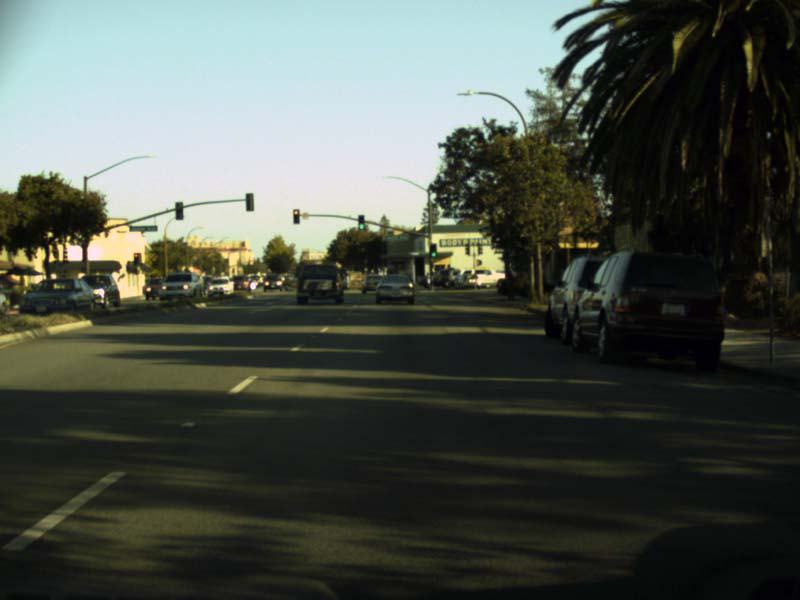Green: (358, 214, 364, 229), (430, 244, 435, 257)
Red: (293, 209, 299, 223), (133, 253, 138, 264)
